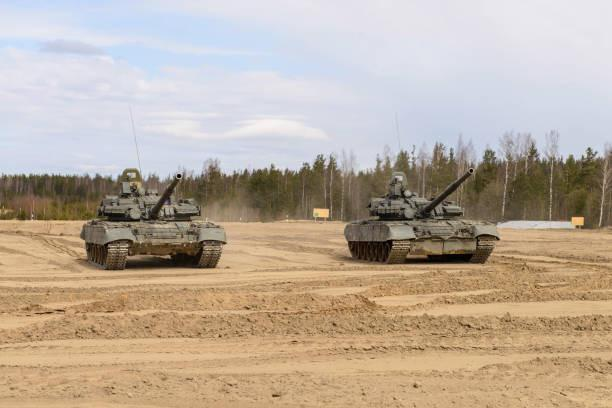tank: (342, 167, 501, 264), (79, 168, 228, 271)
